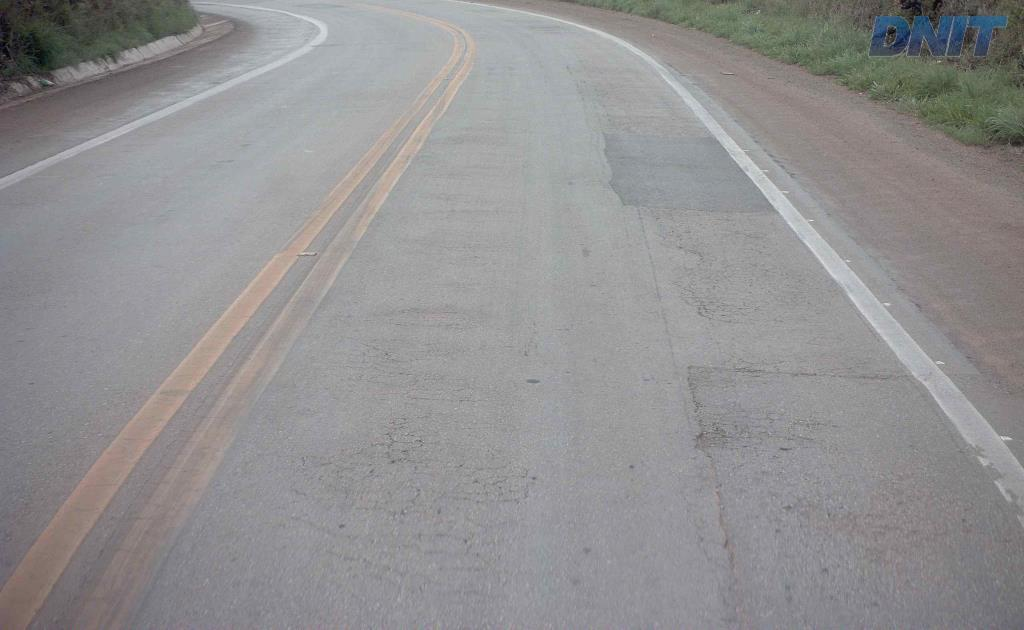crack: (687, 371, 752, 452)
